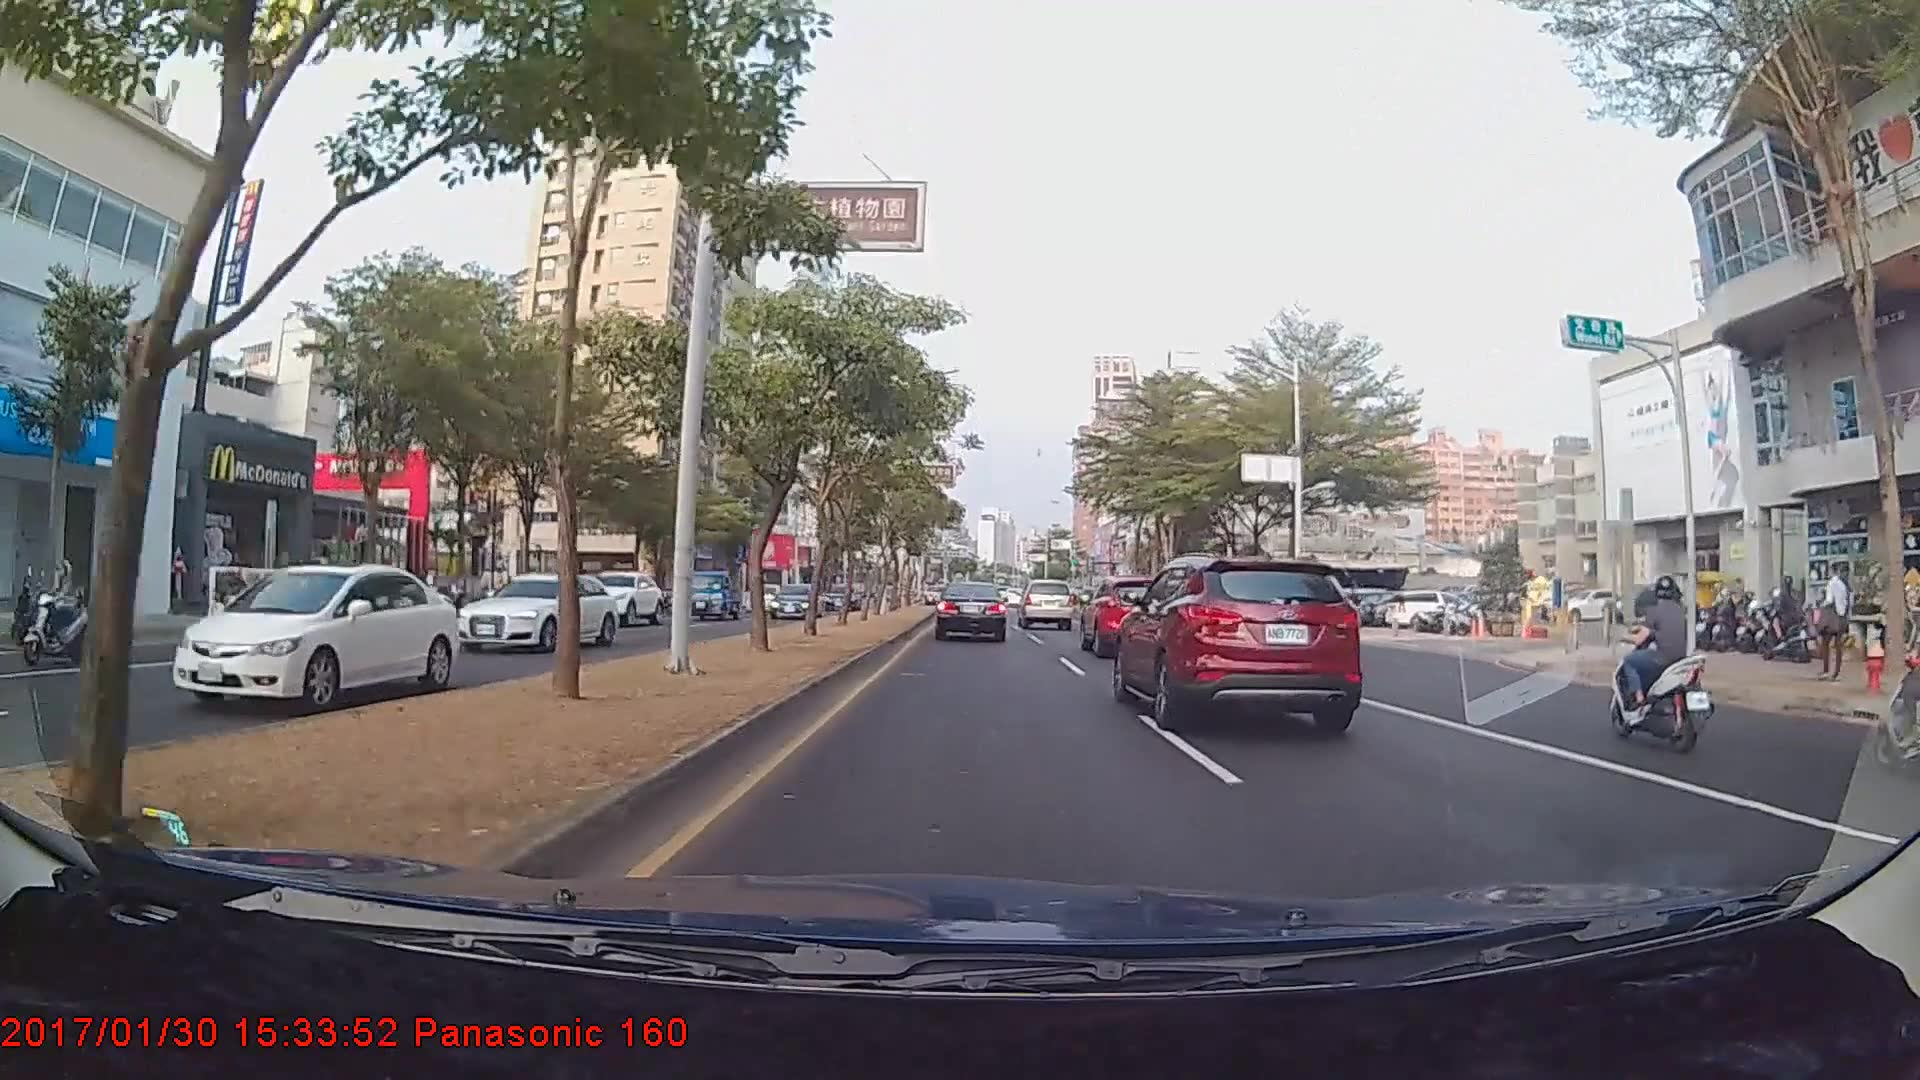pedestrian: (1819, 562, 1853, 678)
rider: (1595, 570, 1715, 753)
vehicle: (168, 559, 460, 714), (1115, 554, 1360, 725), (437, 575, 610, 656), (1079, 572, 1198, 657), (571, 570, 664, 627), (935, 579, 1008, 641), (682, 568, 742, 622), (1018, 578, 1075, 629), (769, 583, 821, 617)
